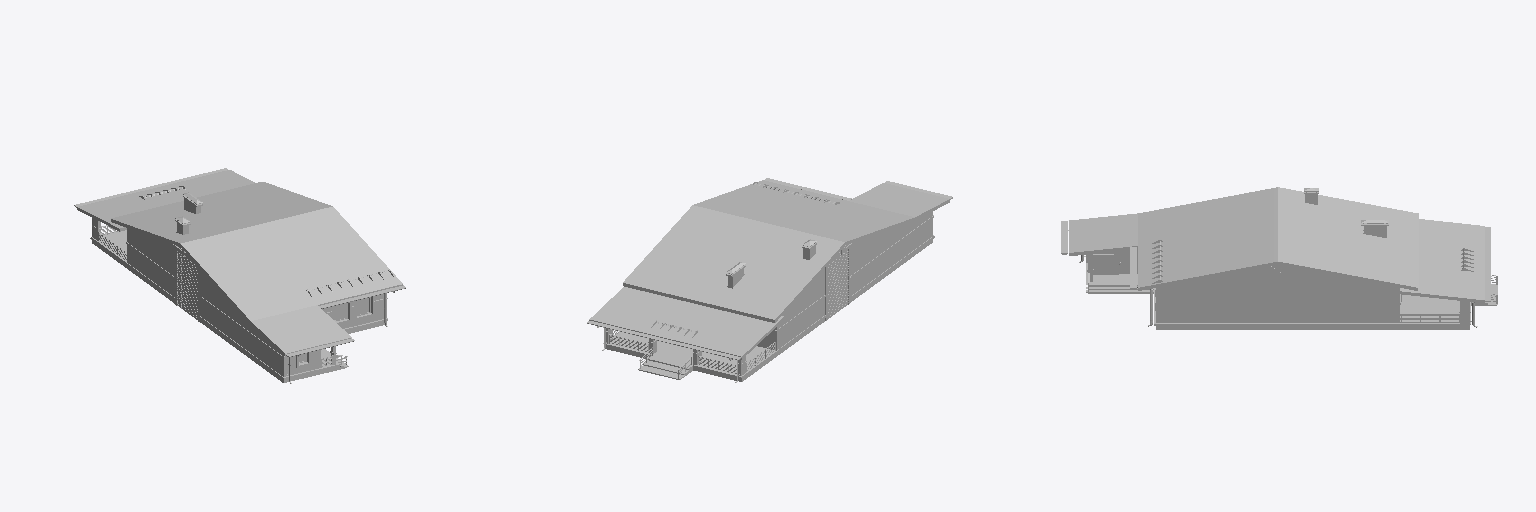
Rendered from newhouse.obj.
3 views of the same model, side by side, from view 1: azimuth 30°, elevation 25°; view 2: azimuth 150°, elevation 25°; view 3: azimuth 270°, elevation 25° (orthographic).
Parts seen in each view (by area): view 1: Cottage_Free; view 2: Cottage_Free; view 3: Cottage_Free.
Part boxes in pixels (x1,y1,x2,y2): Cottage_Free: (74, 168, 405, 383); Cottage_Free: (587, 178, 952, 382); Cottage_Free: (1061, 187, 1497, 329).
Bounding box in the file's own units: 5.91 × 2.99 × 14.65.